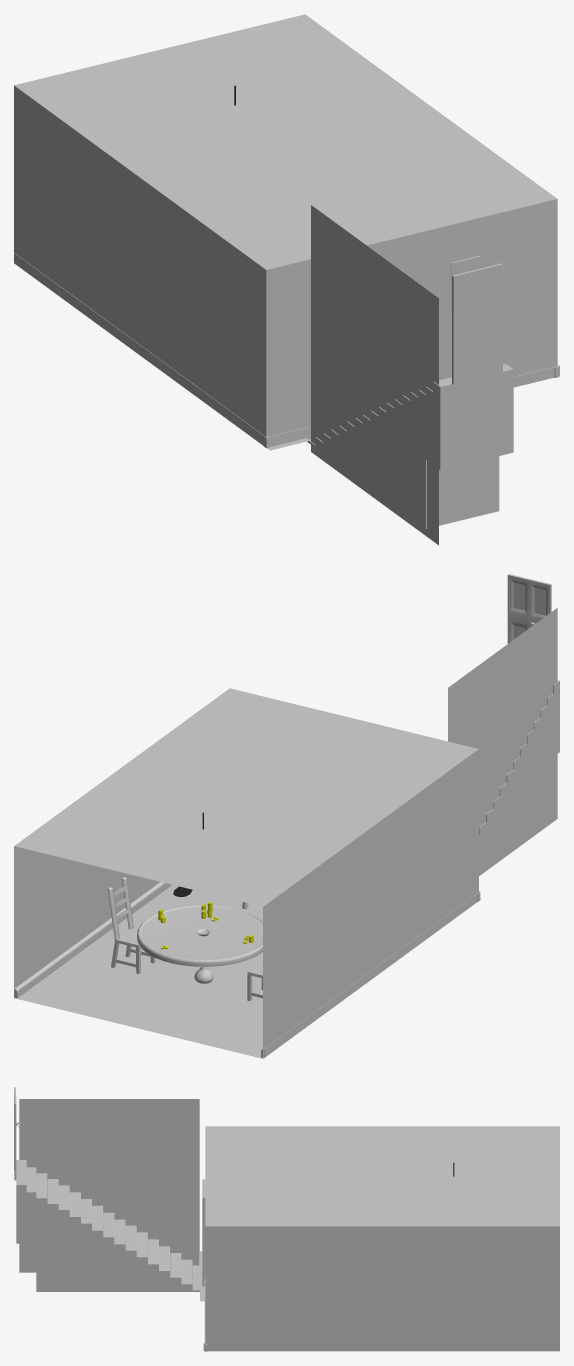
File: boofffff.fbx
3 renders of one model, top to bottom at view 1: azimuth 30°, elevation 25°; view 2: azimuth 150°, elevation 25°; view 3: azimuth 270°, elevation 25°, orthographic. The views are drawn at different scales.
Visible parts, largest first — view 1: pPlane22, pCube8, pPlane11, pPlane13, pPlane14, pPlane15, pPlane21, pPlane19, pPlane18, pPlane16, pPlane17, pPlane20 (+3 smaller); view 2: pPlane22, pPlane15, pPlane13, pPlane14, pPlane19, pPlane21, pPlane16, pPlane20, pPlane17, pPlane18, pPlane7, pPlane10 (+11 smaller); view 3: pPlane22, pPlane10, pPlane9, pPlane3, pCube8, pPlane19, pPlane20, pPlane18, pPlane17, pPlane21, pPlane16, pCube12 (+1 smaller).
Boxes of the visible parts, x1,y1,x2,y2 form: pPlane22: (311,205,438,545); pCube8: (307,364,513,528); pPlane11: (412,199,557,380); pPlane13: (182,209,266,436); pPlane14: (98,147,182,375); pPlane15: (14,85,97,313); pPlane21: (98,111,327,208); pPlane19: (328,137,556,234); pPlane18: (244,76,472,172); pPlane16: (14,50,243,146); pPlane17: (160,14,388,111); pPlane20: (182,173,411,269); pPlane22: (448,608,557,875); pPlane15: (263,854,334,1058); pPlane13: (407,749,478,943); pPlane14: (335,802,406,996); pPlane19: (158,688,353,771); pPlane21: (211,771,406,853); pPlane16: (139,824,334,906); pPlane20: (283,718,478,801); pPlane17: (14,793,209,876); pPlane18: (86,741,281,823); pPlane7: (14,946,199,1028); pPlane10: (14,846,85,997); pPlane22: (19,1099,199,1272); pPlane10: (441,1226,559,1351); pPlane9: (323,1226,441,1351); pPlane3: (205,1226,323,1351); pCube8: (16,1160,199,1291); pPlane19: (205,1176,323,1226); pPlane20: (205,1126,323,1176); pPlane18: (323,1176,441,1226); pPlane17: (441,1176,559,1226); pPlane21: (323,1126,441,1176); pPlane16: (441,1126,559,1176); pCube12: (203,1343,559,1350).
Size of the model in its own units: 12.11 by 10.59 by 27.72.
